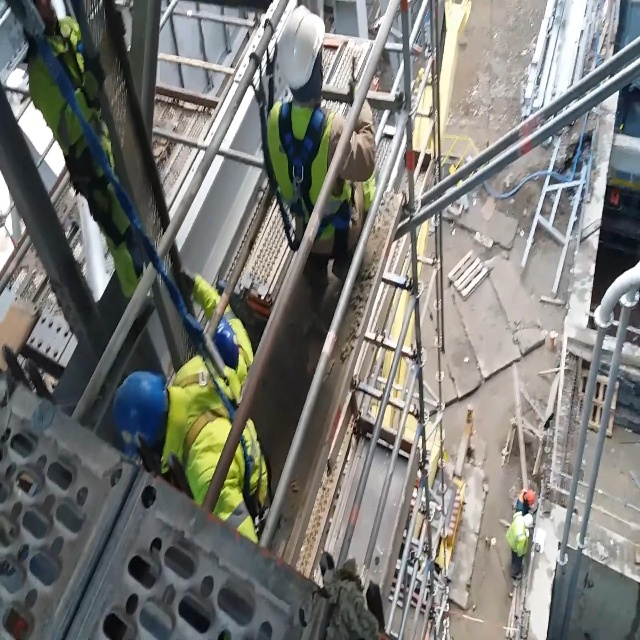Arnes_seguridad: (158, 359, 269, 501), (273, 85, 355, 252)
